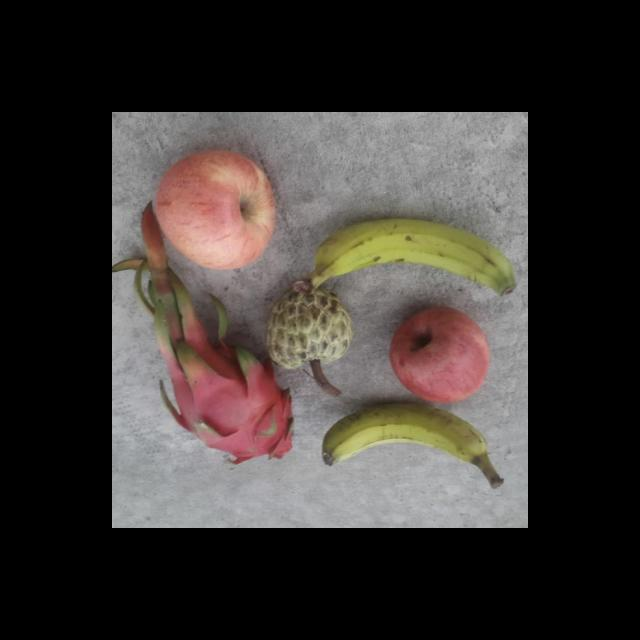Sakya fruit: (264, 282, 358, 376)
apple: (156, 143, 282, 269), (390, 304, 496, 402)
banana: (294, 217, 517, 294), (319, 402, 509, 490)
pitaya: (158, 330, 297, 468)
